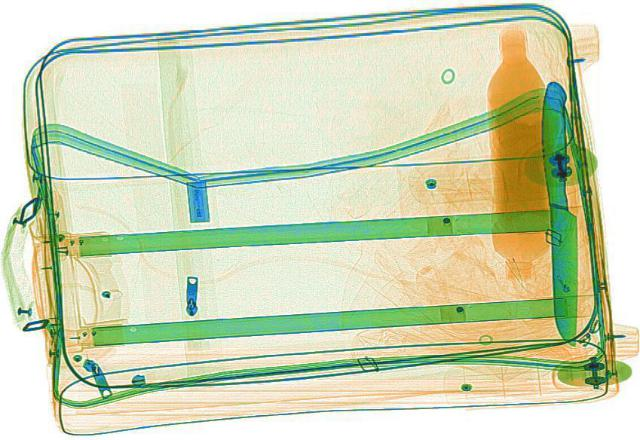Knife: (534, 80, 586, 340)
